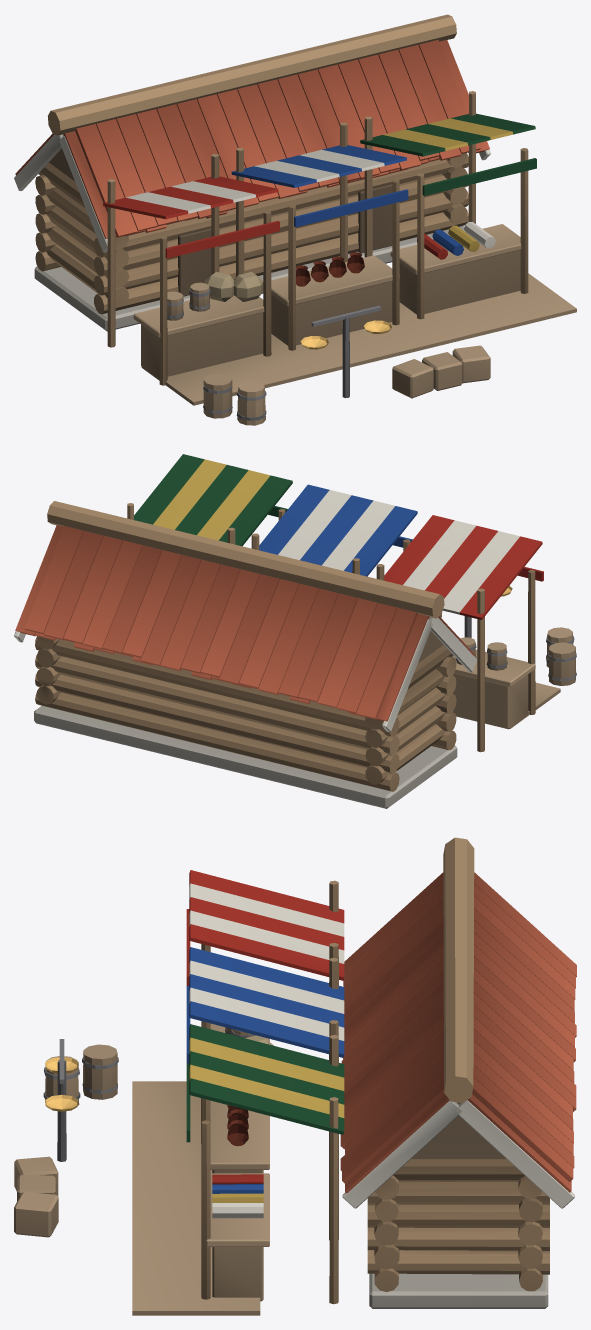
File: bld_market_e1.glb
The picture shows the model from 3 angles, top to bottom: view 1: azimuth 30°, elevation 25°; view 2: azimuth 150°, elevation 25°; view 3: azimuth 270°, elevation 25°; orthographic projection. The views are drawn at different scales.
Visible parts, largest first — view 1: market; view 2: market; view 3: market.
Part boxes in pixels (x1=…): market: x1=14, y1=14, x2=576, y2=425; market: x1=14, y1=454, x2=576, y2=808; market: x1=14, y1=837, x2=576, y2=1315.
Bounding box in the file's own units: 1.76 × 0.8419 × 1.76.
